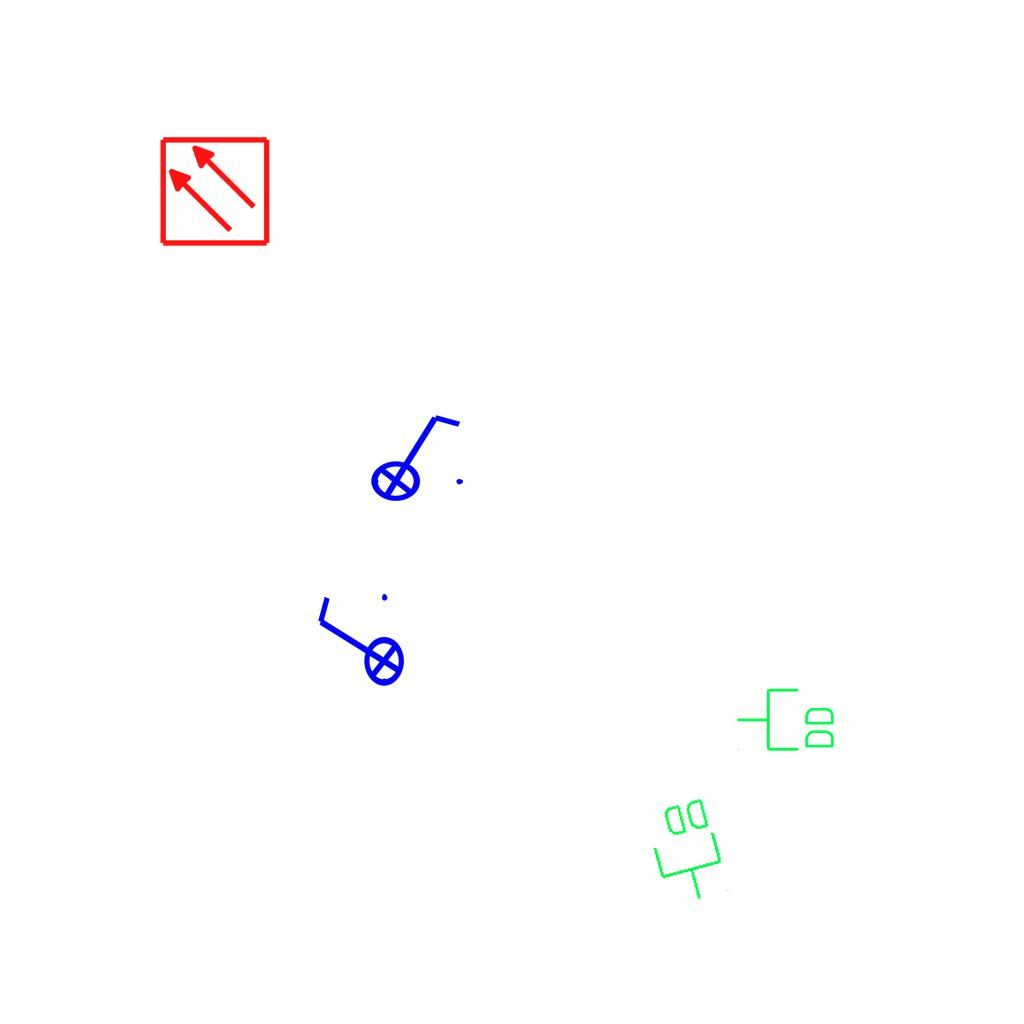Ausschalter_beleuchtet: (357, 407, 469, 503), (310, 588, 406, 700)
Datenanschluss_zweifach: (640, 792, 735, 911), (735, 686, 838, 755)
RMO_Rauchmelder_optischer: (158, 135, 271, 248)
